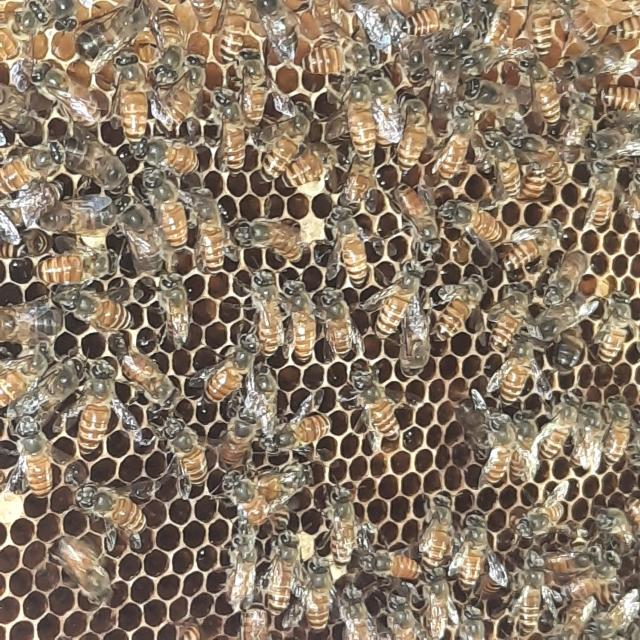honeybee: (0, 402, 66, 511), (68, 359, 131, 466), (213, 463, 282, 554), (254, 88, 315, 190), (43, 127, 126, 200), (44, 530, 113, 615), (347, 361, 410, 454), (11, 345, 89, 419), (268, 402, 349, 468), (501, 483, 593, 541), (50, 282, 145, 335), (77, 2, 160, 62), (594, 280, 640, 388), (542, 228, 605, 306), (384, 178, 444, 259), (35, 244, 136, 292), (142, 170, 195, 261), (527, 378, 576, 476), (496, 401, 544, 501), (128, 123, 208, 183), (322, 482, 374, 574), (492, 325, 544, 417), (321, 206, 369, 304), (228, 216, 324, 265), (202, 86, 251, 182), (524, 289, 612, 342), (428, 189, 515, 242), (73, 482, 155, 538), (434, 266, 494, 342), (143, 272, 200, 352), (30, 57, 98, 124), (248, 449, 314, 518), (331, 71, 377, 170), (201, 399, 261, 474), (0, 344, 69, 407), (482, 276, 536, 354), (568, 388, 614, 479), (300, 32, 386, 80), (259, 530, 302, 624), (274, 133, 344, 190), (163, 422, 213, 501), (188, 181, 229, 277), (185, 348, 254, 405), (246, 264, 288, 356), (473, 403, 512, 502), (40, 189, 120, 237), (498, 210, 563, 269), (521, 47, 564, 136), (598, 389, 640, 480), (383, 85, 425, 175), (327, 572, 382, 640), (376, 257, 424, 333), (275, 276, 319, 358), (512, 130, 573, 188), (110, 54, 152, 138), (232, 46, 272, 134), (533, 531, 618, 572), (0, 140, 67, 192), (452, 506, 499, 580), (393, 286, 434, 370), (434, 103, 477, 183), (316, 285, 362, 359), (418, 559, 460, 640), (223, 534, 263, 619), (0, 0, 50, 67), (253, 0, 300, 69), (150, 2, 187, 87), (456, 1, 516, 52), (413, 490, 453, 566), (394, 0, 483, 34), (0, 181, 55, 236), (306, 553, 342, 634), (166, 49, 200, 133), (457, 73, 530, 112), (378, 589, 432, 640), (583, 150, 615, 236), (214, 0, 253, 69), (0, 300, 59, 345), (360, 545, 428, 582), (581, 118, 640, 160), (572, 40, 640, 74), (481, 127, 512, 201), (554, 564, 630, 594), (593, 592, 640, 640), (306, 0, 358, 42), (558, 313, 591, 378), (550, 590, 592, 640), (598, 68, 640, 115), (559, 0, 600, 48), (514, 587, 549, 640), (620, 160, 640, 250), (594, 506, 632, 552), (456, 596, 495, 640), (531, 0, 555, 61), (234, 597, 268, 640), (601, 11, 640, 48), (521, 163, 551, 200), (165, 611, 202, 640), (0, 232, 29, 264), (53, 0, 81, 32), (593, 579, 621, 601)
